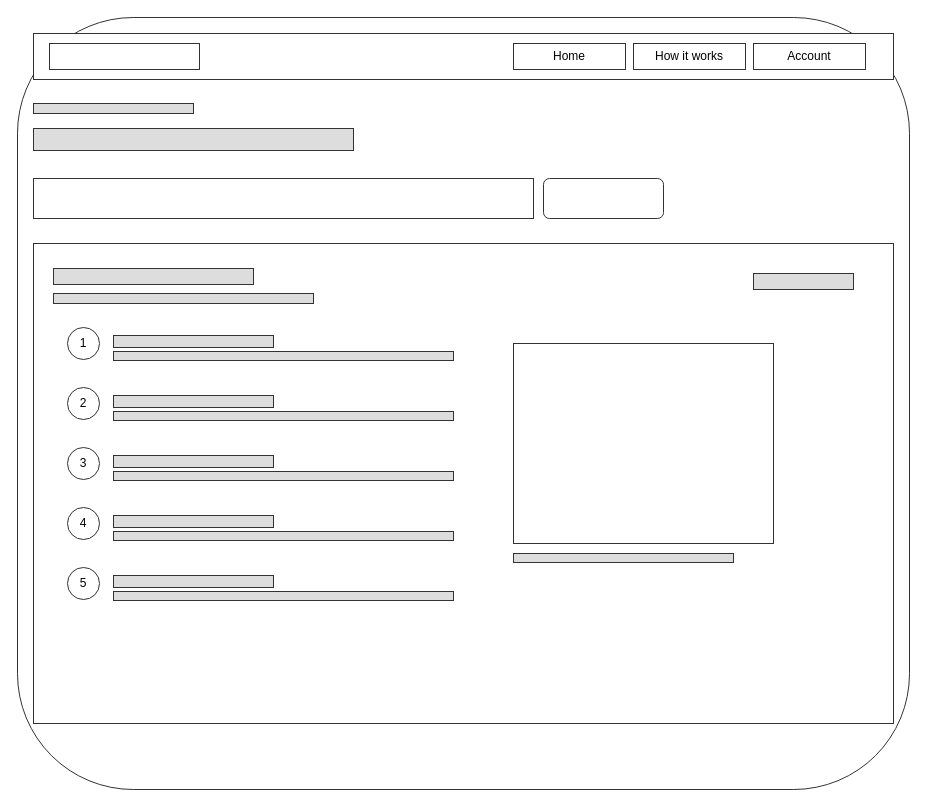
This 927x807 diagram has some shape labels left out. The box of each missing label's shape, as (x1, y1, x2, y2) in pixels:
AI MOCKUP PREVIEW: (512, 342, 774, 544)
Order reference e.g. TC-2026-XXXXXX: (32, 178, 534, 218)
THREADCRAFT: (48, 42, 200, 70)
Track: (542, 178, 664, 218)
